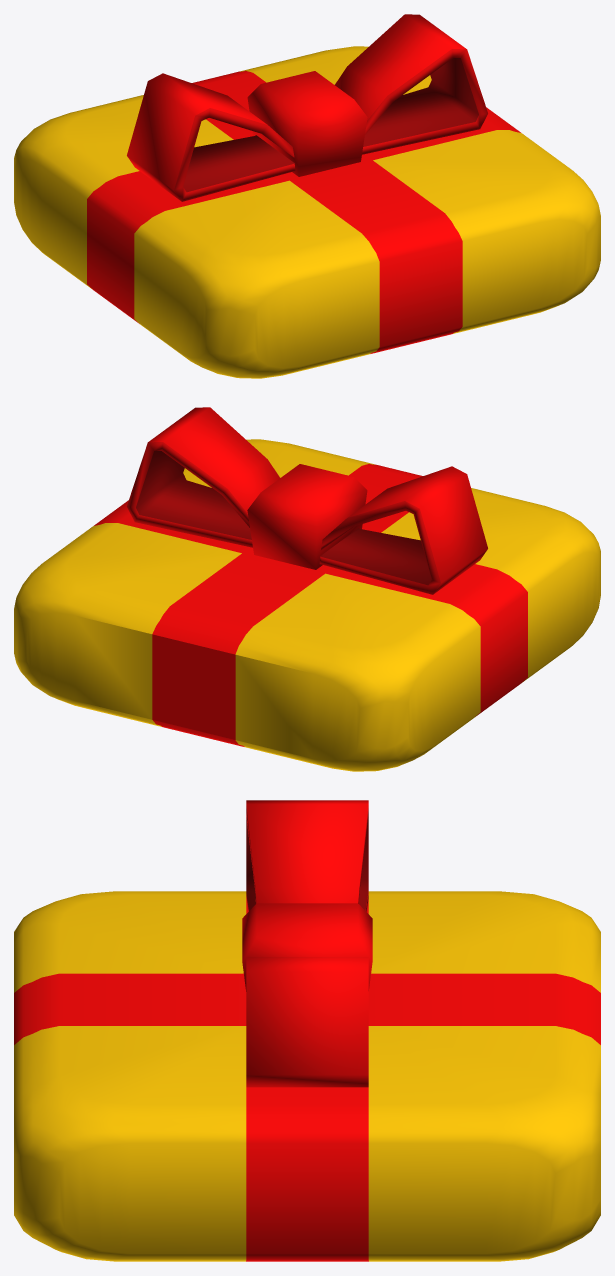
The model's file is D_FBX_16_Present_Box_Up.fbx.
The picture shows the model from 3 angles, top to bottom: view 1: azimuth 30°, elevation 25°; view 2: azimuth 150°, elevation 25°; view 3: azimuth 270°, elevation 25°; orthographic projection. The views are drawn at different scales.
Parts seen in each view (by area): view 1: D_FBX_16_Present_Box_Up; view 2: D_FBX_16_Present_Box_Up; view 3: D_FBX_16_Present_Box_Up.
Part boxes in pixels (left/top/right/bottom): D_FBX_16_Present_Box_Up: left=14, top=14, right=600, bottom=378; D_FBX_16_Present_Box_Up: left=14, top=407, right=600, bottom=771; D_FBX_16_Present_Box_Up: left=14, top=800, right=600, bottom=1261.
Size of the model in its own units: 244 by 123 by 244.
